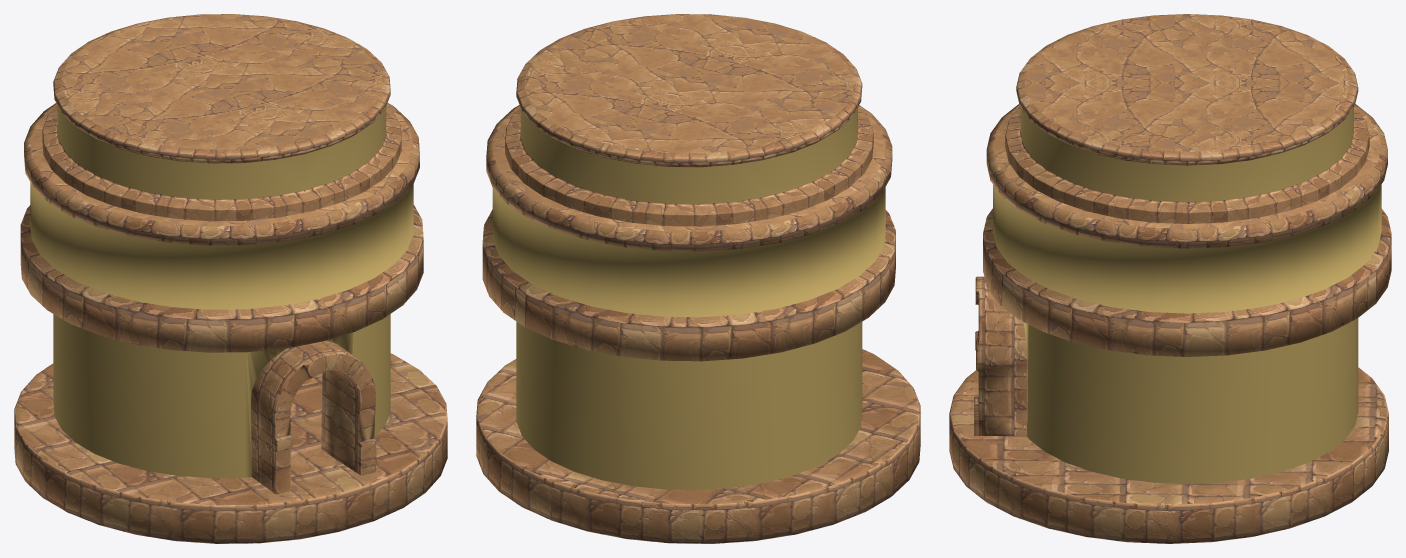
The model's file is Templehouse.fbx.
3 renders of one model, left to right at view 1: azimuth 30°, elevation 25°; view 2: azimuth 150°, elevation 25°; view 3: azimuth 270°, elevation 25°, orthographic. The views are drawn at different scales.
Parts seen in each view (by area): view 1: Colonne.001; view 2: Colonne.001; view 3: Colonne.001.
Boxes of the visible parts, left/top/right/bottom form: Colonne.001: left=14, top=14, right=447, bottom=543; Colonne.001: left=476, top=14, right=920, bottom=543; Colonne.001: left=949, top=14, right=1391, bottom=543.
Bounding box in the file's own units: 3827 × 3543 × 3850.
